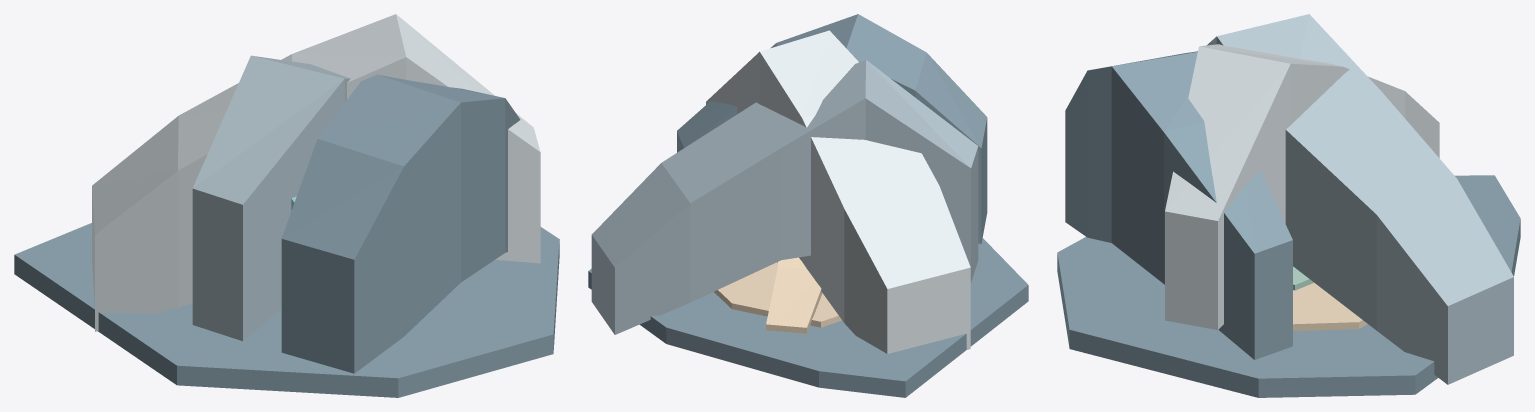
3 renders of one model, left to right at view 1: azimuth 30°, elevation 25°; view 2: azimuth 150°, elevation 25°; view 3: azimuth 270°, elevation 25°, orthographic. The views are drawn at different scales.
Size of the model in its own units: 316 by 191 by 304.
